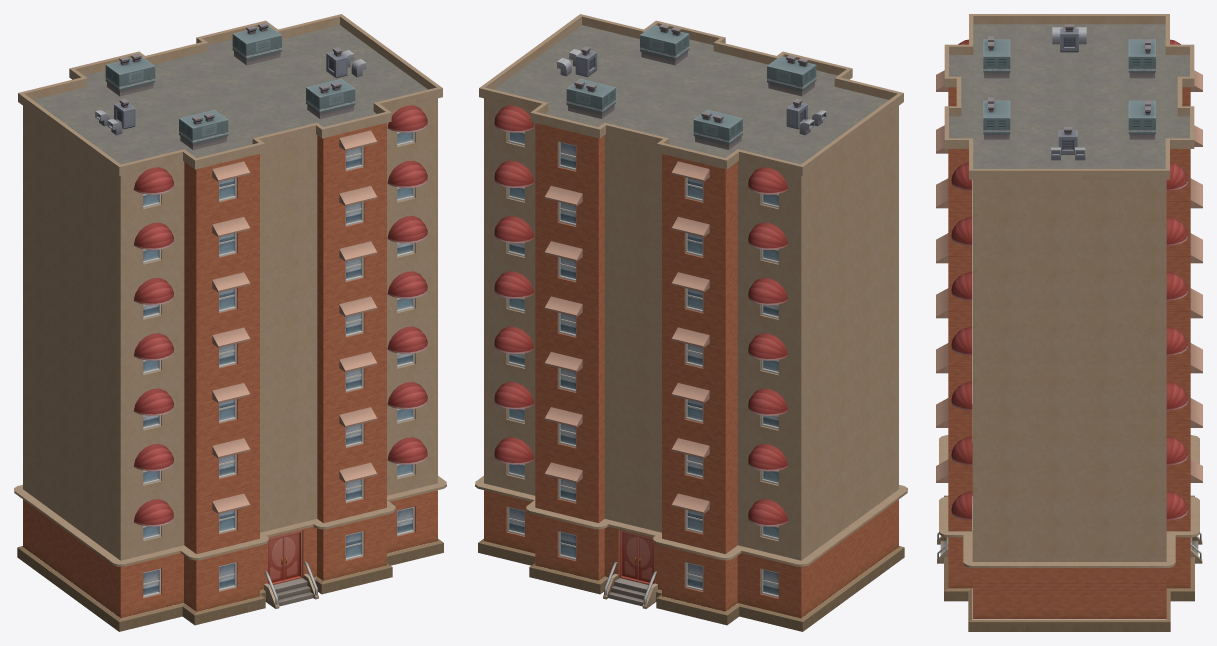
Rendered from Building_9-transformed.glb.
The picture shows the model from 3 angles, left to right: view 1: azimuth 30°, elevation 25°; view 2: azimuth 150°, elevation 25°; view 3: azimuth 270°, elevation 25°; orthographic projection.
Parts seen in each view (by area): view 1: Building_9_Roof_1; view 2: Building_9_Roof_1; view 3: Building_9_Roof_1.
Part boxes in pixels (x1,y1,x2,y2): Building_9_Roof_1: [14, 14, 446, 631]; Building_9_Roof_1: [475, 14, 907, 631]; Building_9_Roof_1: [936, 14, 1202, 631].
Bounding box in the file's own units: 15.76 × 21.86 × 11.01.
10 materials, 10 textured.
